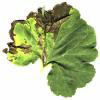Tomato leaf bacterial spot: (4, 2, 72, 67)
